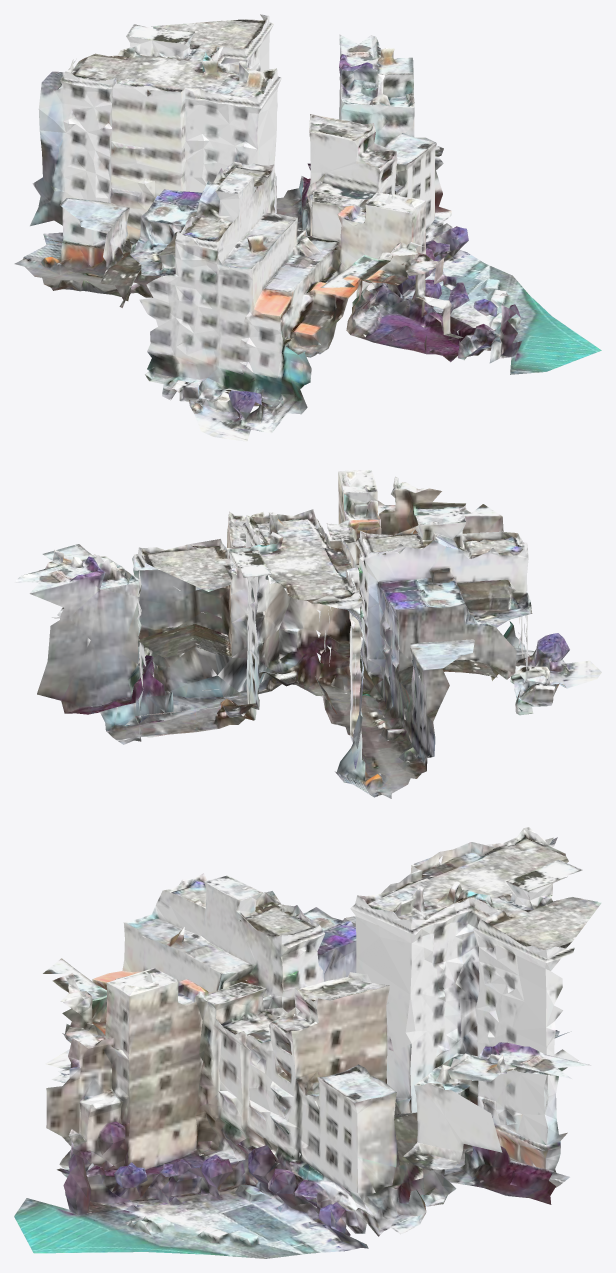
File: Tile_+012_+018_L19_000002.glb
The picture shows the model from 3 angles, top to bottom: view 1: azimuth 30°, elevation 25°; view 2: azimuth 150°, elevation 25°; view 3: azimuth 270°, elevation 25°; orthographic projection. The views are drawn at different scales.
Parts seen in each view (by area): view 1: rtc; view 2: rtc; view 3: rtc.
Boxes of the visible parts, bbox=[...] form: rtc: bbox=[14, 14, 601, 441]; rtc: bbox=[14, 470, 601, 798]; rtc: bbox=[14, 827, 601, 1258].
Size of the model in its own units: 55.59 by 30.76 by 61.84.
Materials: 1 (1 with a texture image).
